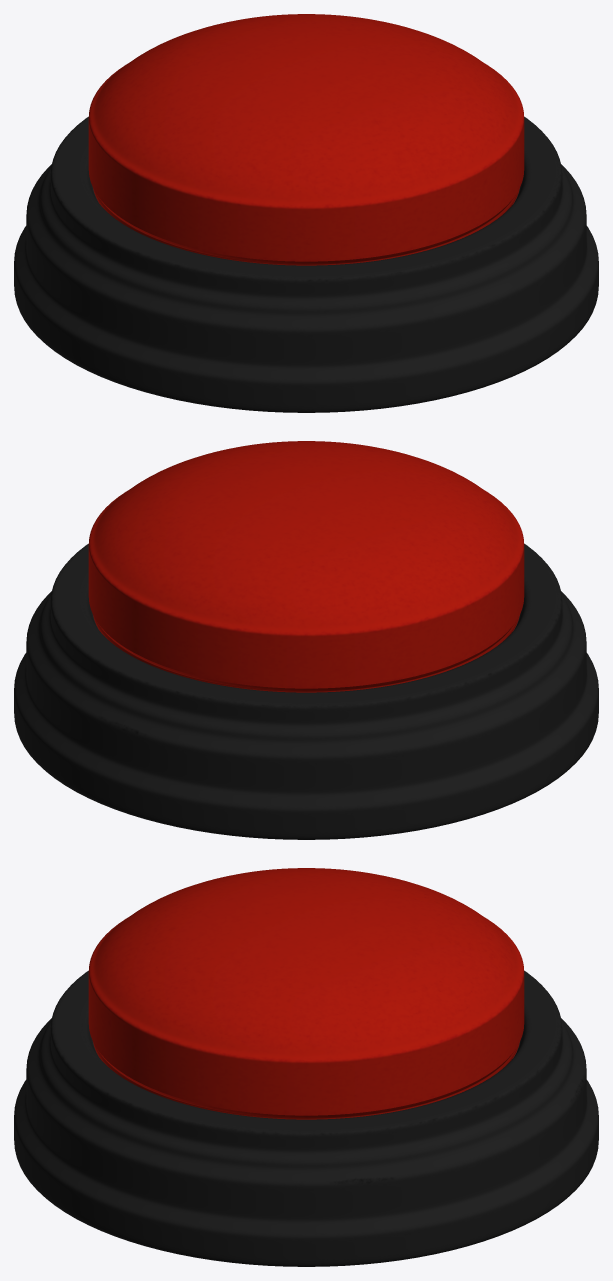
File: Emergency Button2_animated.fbx
3 views of the same model, one above another, from view 1: azimuth 30°, elevation 25°; view 2: azimuth 150°, elevation 25°; view 3: azimuth 270°, elevation 25° (orthographic).
Visible parts, largest first — view 1: Emergency Button 2, Emergency Button 2.001; view 2: Emergency Button 2, Emergency Button 2.001; view 3: Emergency Button 2, Emergency Button 2.001.
Boxes of the visible parts, left/top/right/bottom form: Emergency Button 2: left=14, top=117, right=598, bottom=412; Emergency Button 2.001: left=88, top=14, right=524, bottom=261; Emergency Button 2: left=14, top=544, right=598, bottom=839; Emergency Button 2.001: left=88, top=441, right=524, bottom=688; Emergency Button 2: left=14, top=971, right=598, bottom=1266; Emergency Button 2.001: left=88, top=868, right=524, bottom=1115.
Size of the model in its own units: 14.26 by 6.23 by 14.26.
